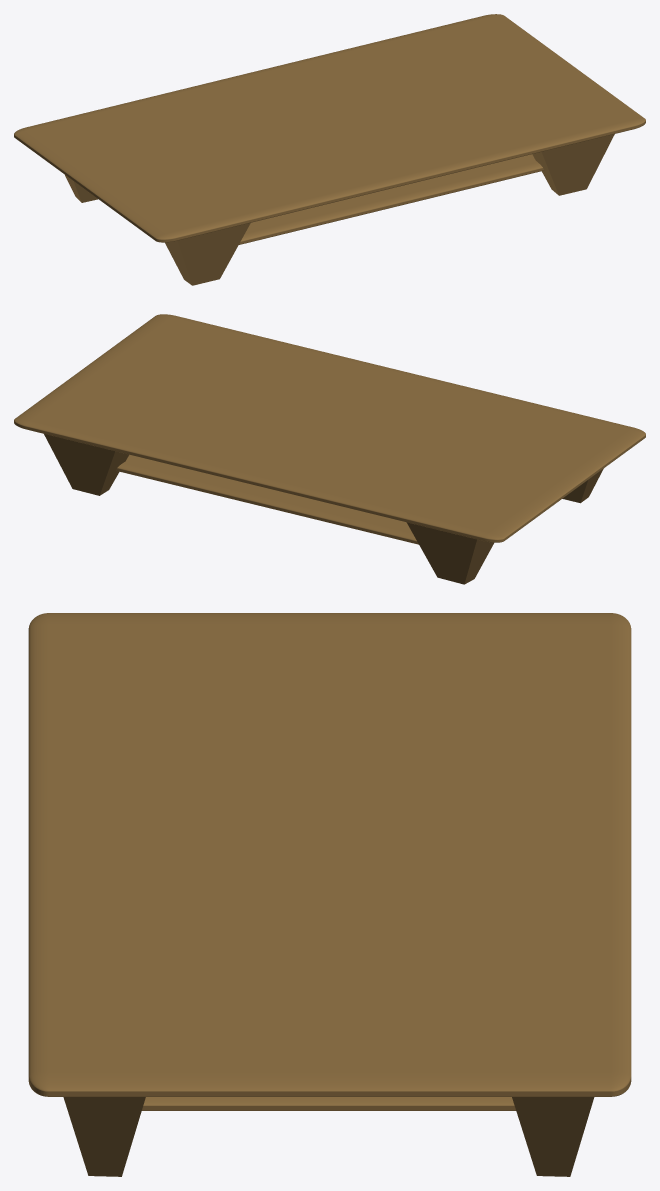
The model's file is mesa.glb.
The picture shows the model from 3 angles, top to bottom: view 1: azimuth 30°, elevation 25°; view 2: azimuth 150°, elevation 25°; view 3: azimuth 270°, elevation 25°; orthographic projection. The views are drawn at different scales.
Visible parts, largest first — view 1: Mesh_Mesh_head_geo.001_lambert2SG.001; view 2: Mesh_Mesh_head_geo.001_lambert2SG.001; view 3: Mesh_Mesh_head_geo.001_lambert2SG.001.
Part boxes in pixels (left/top/right/bottom): Mesh_Mesh_head_geo.001_lambert2SG.001: left=14, top=14, right=645, bottom=285; Mesh_Mesh_head_geo.001_lambert2SG.001: left=14, top=314, right=645, bottom=584; Mesh_Mesh_head_geo.001_lambert2SG.001: left=28, top=613, right=631, bottom=1176.
Size of the model in its own units: 92 by 12.21 by 49.
